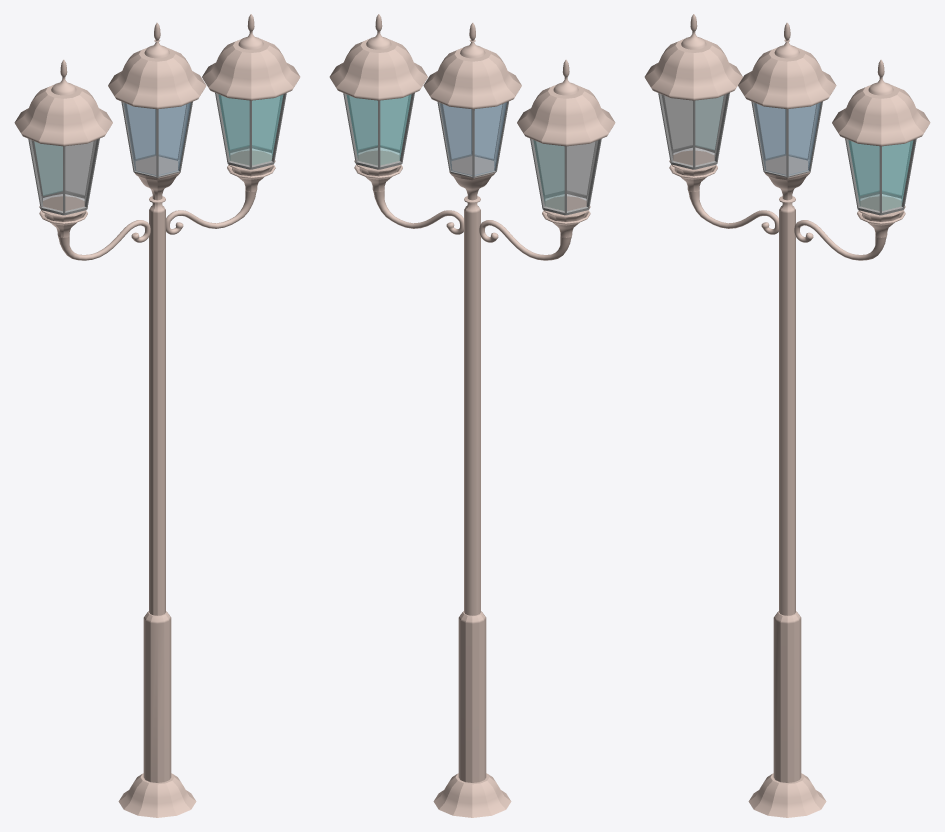
File: ludeng.fbx
3 renders of one model, left to right at view 1: azimuth 30°, elevation 25°; view 2: azimuth 150°, elevation 25°; view 3: azimuth 330°, elevation 25°, orthographic.
Parts seen in each view (by area): view 1: polySurface54; view 2: polySurface54; view 3: polySurface54.
Boxes of the visible parts, x1,y1,x2,y2 form: polySurface54: (14, 14, 300, 817); polySurface54: (329, 14, 615, 817); polySurface54: (644, 14, 930, 817).
Size of the model in its own units: 3.58 by 9.77 by 1.12.
